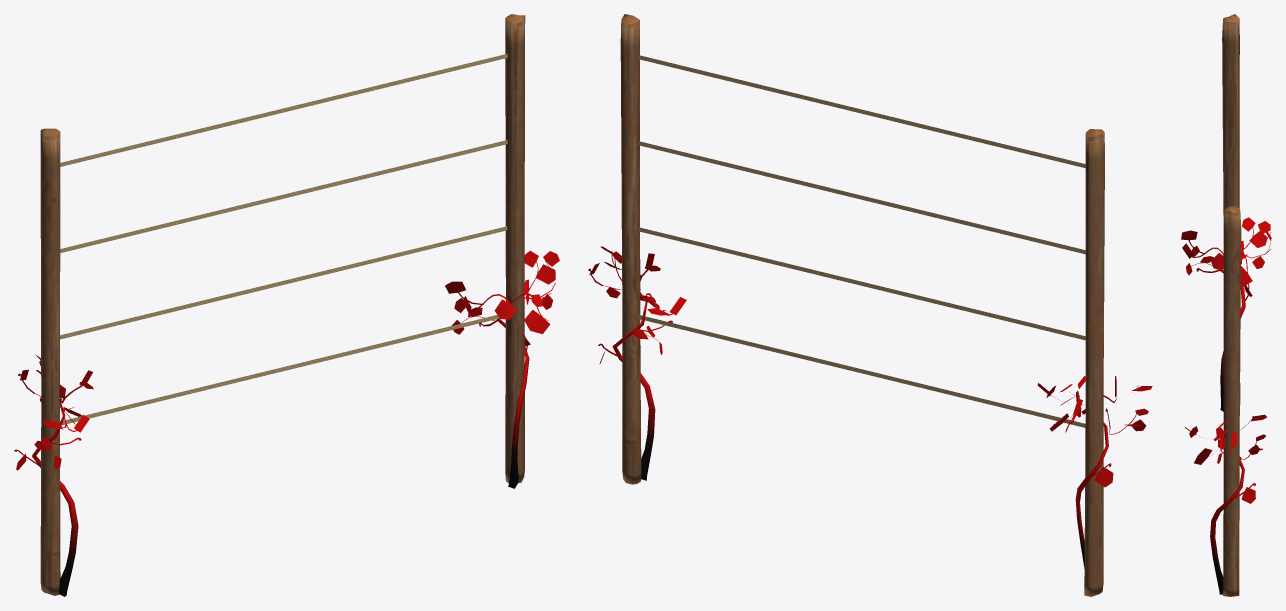
The model's file is SM_Farm_GrapevineSeedling_03.fbx.
3 renders of one model, left to right at view 1: azimuth 30°, elevation 25°; view 2: azimuth 150°, elevation 25°; view 3: azimuth 270°, elevation 25°, orthographic. The views are drawn at different scales.
Parts seen in each view (by area): view 1: SM_Farm_GrapevineSeedling_03_LOD0; view 2: SM_Farm_GrapevineSeedling_03_LOD0; view 3: SM_Farm_GrapevineSeedling_03_LOD0.
Boxes of the visible parts, x1,y1,x2,y2 form: SM_Farm_GrapevineSeedling_03_LOD0: [14, 14, 559, 596]; SM_Farm_GrapevineSeedling_03_LOD0: [588, 14, 1152, 596]; SM_Farm_GrapevineSeedling_03_LOD0: [1181, 14, 1271, 596].
Bounding box in the file's own units: 173 × 144 × 30.32.
